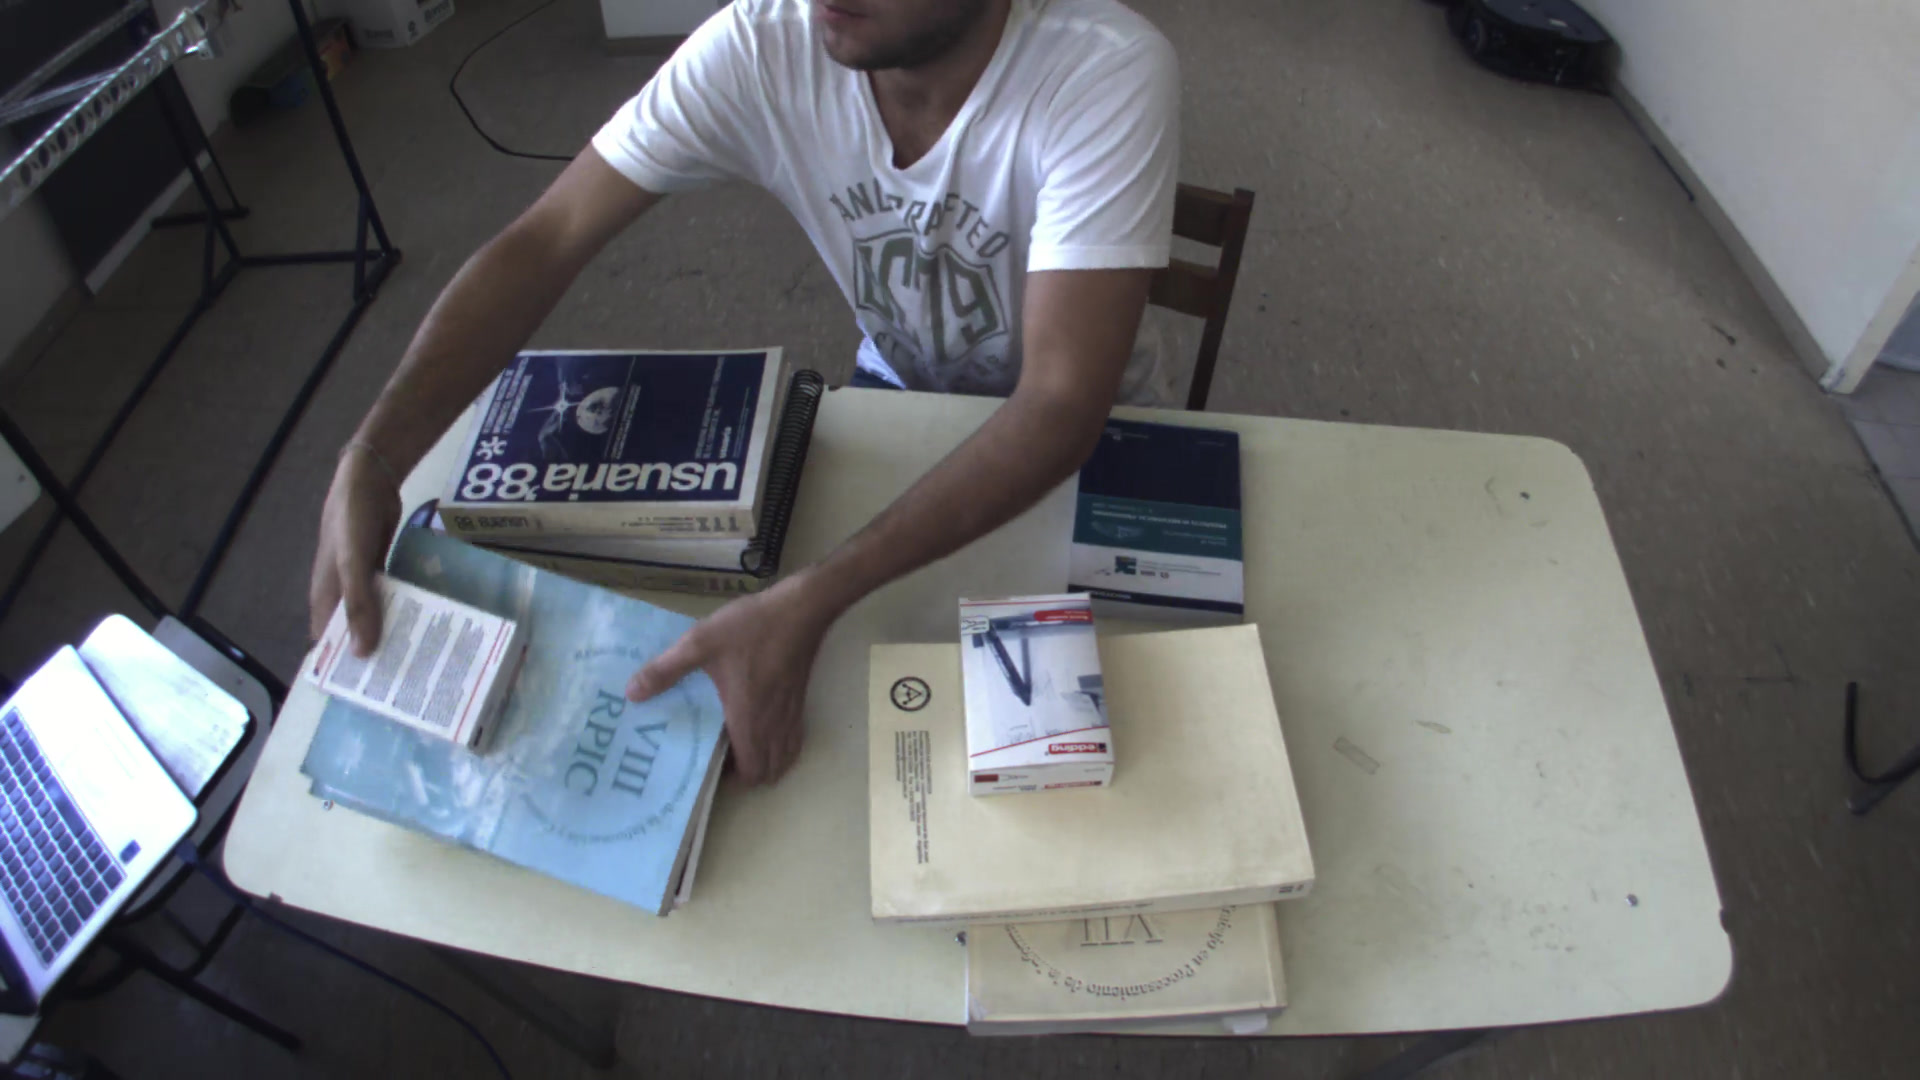hand: (624, 574, 824, 783), (295, 469, 409, 674)
